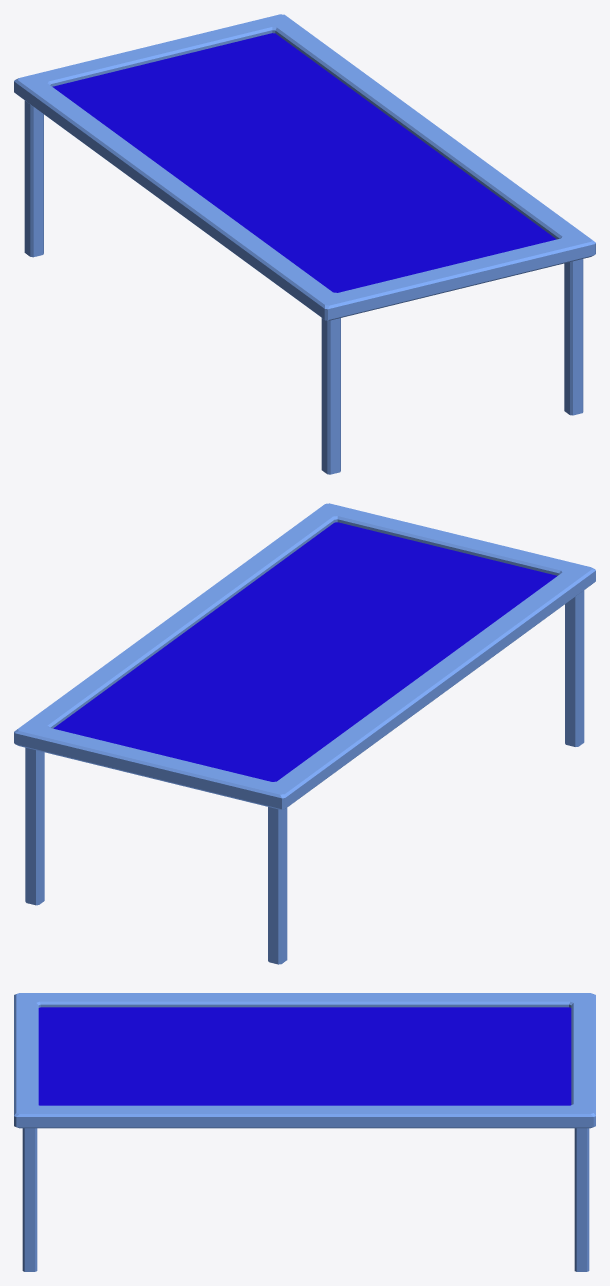
The model's file is CoffeeTable_01.glb.
The picture shows the model from 3 angles, top to bottom: view 1: azimuth 30°, elevation 25°; view 2: azimuth 150°, elevation 25°; view 3: azimuth 270°, elevation 25°; orthographic projection. The views are drawn at different scales.
Parts seen in each view (by area): view 1: CoffeeTable_Glass, CoffeeTable; view 2: CoffeeTable_Glass, CoffeeTable; view 3: CoffeeTable_Glass, CoffeeTable.
Part boxes in pixels (x1,y1,x2,y2): CoffeeTable_Glass: (52,33,556,292); CoffeeTable: (14,14,595,474); CoffeeTable_Glass: (53,522,556,781); CoffeeTable: (14,503,595,964); CoffeeTable_Glass: (38,1007,571,1105); CoffeeTable: (14,993,595,1271).
Size of the model in its own units: 1 by 0.6085 by 2.
2 materials, 1 textured.
